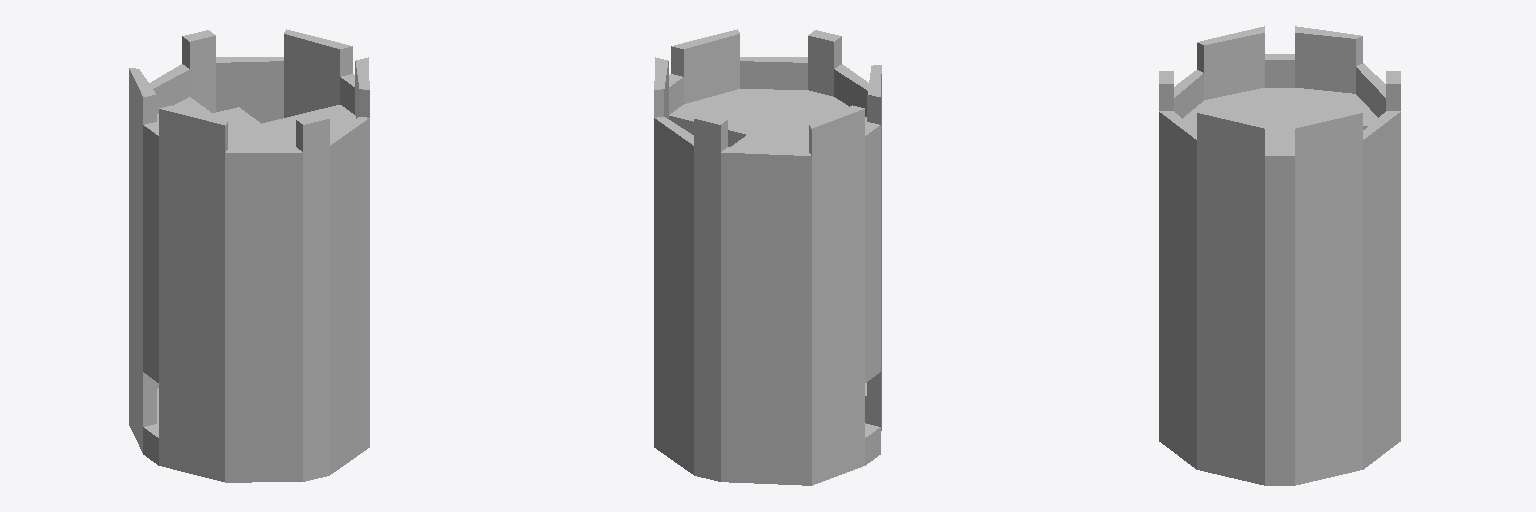
File: TriangulatedTower.obj
3 renders of one model, left to right at view 1: azimuth 30°, elevation 25°; view 2: azimuth 150°, elevation 25°; view 3: azimuth 270°, elevation 25°, orthographic.
Visible parts, largest first — view 1: Cube; view 2: Cube; view 3: Cube.
Part boxes in pixels (left/top/right/bottom): Cube: left=129, top=29, right=369, bottom=482; Cube: left=654, top=29, right=881, bottom=485; Cube: left=1159, top=26, right=1400, bottom=485.
Bounding box in the file's own units: 16 × 26 × 16.